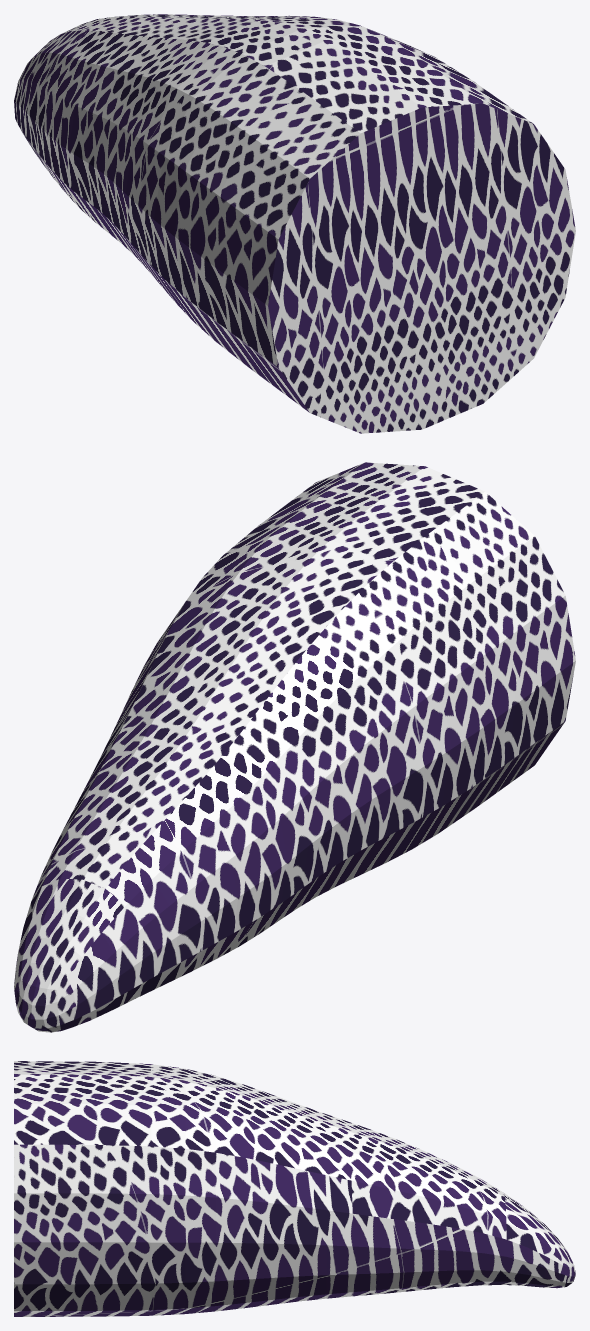
File: snake_tail.gltf
The picture shows the model from 3 angles, top to bottom: view 1: azimuth 30°, elevation 25°; view 2: azimuth 150°, elevation 25°; view 3: azimuth 270°, elevation 25°; orthographic projection. The views are drawn at different scales.
Visible parts, largest first — view 1: Tail; view 2: Tail; view 3: Tail.
Boxes of the visible parts, x1,y1,x2,y2 form: Tail: (14,14,575,433); Tail: (14,462,575,1032); Tail: (14,1061,575,1316).
Size of the model in its own units: 4.67 by 4.67 by 10.37.
Materials: 1 (1 with a texture image).
